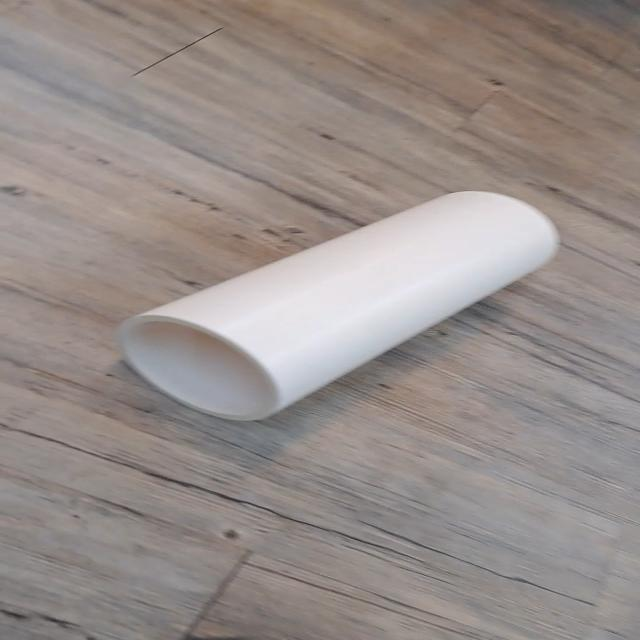CORAL: (113, 184, 563, 424)
